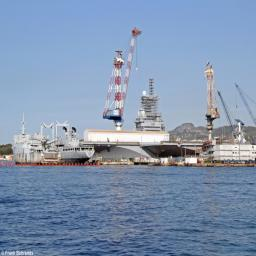Portanaves: (73, 134, 206, 165), (10, 167, 70, 179), (51, 167, 71, 171)
